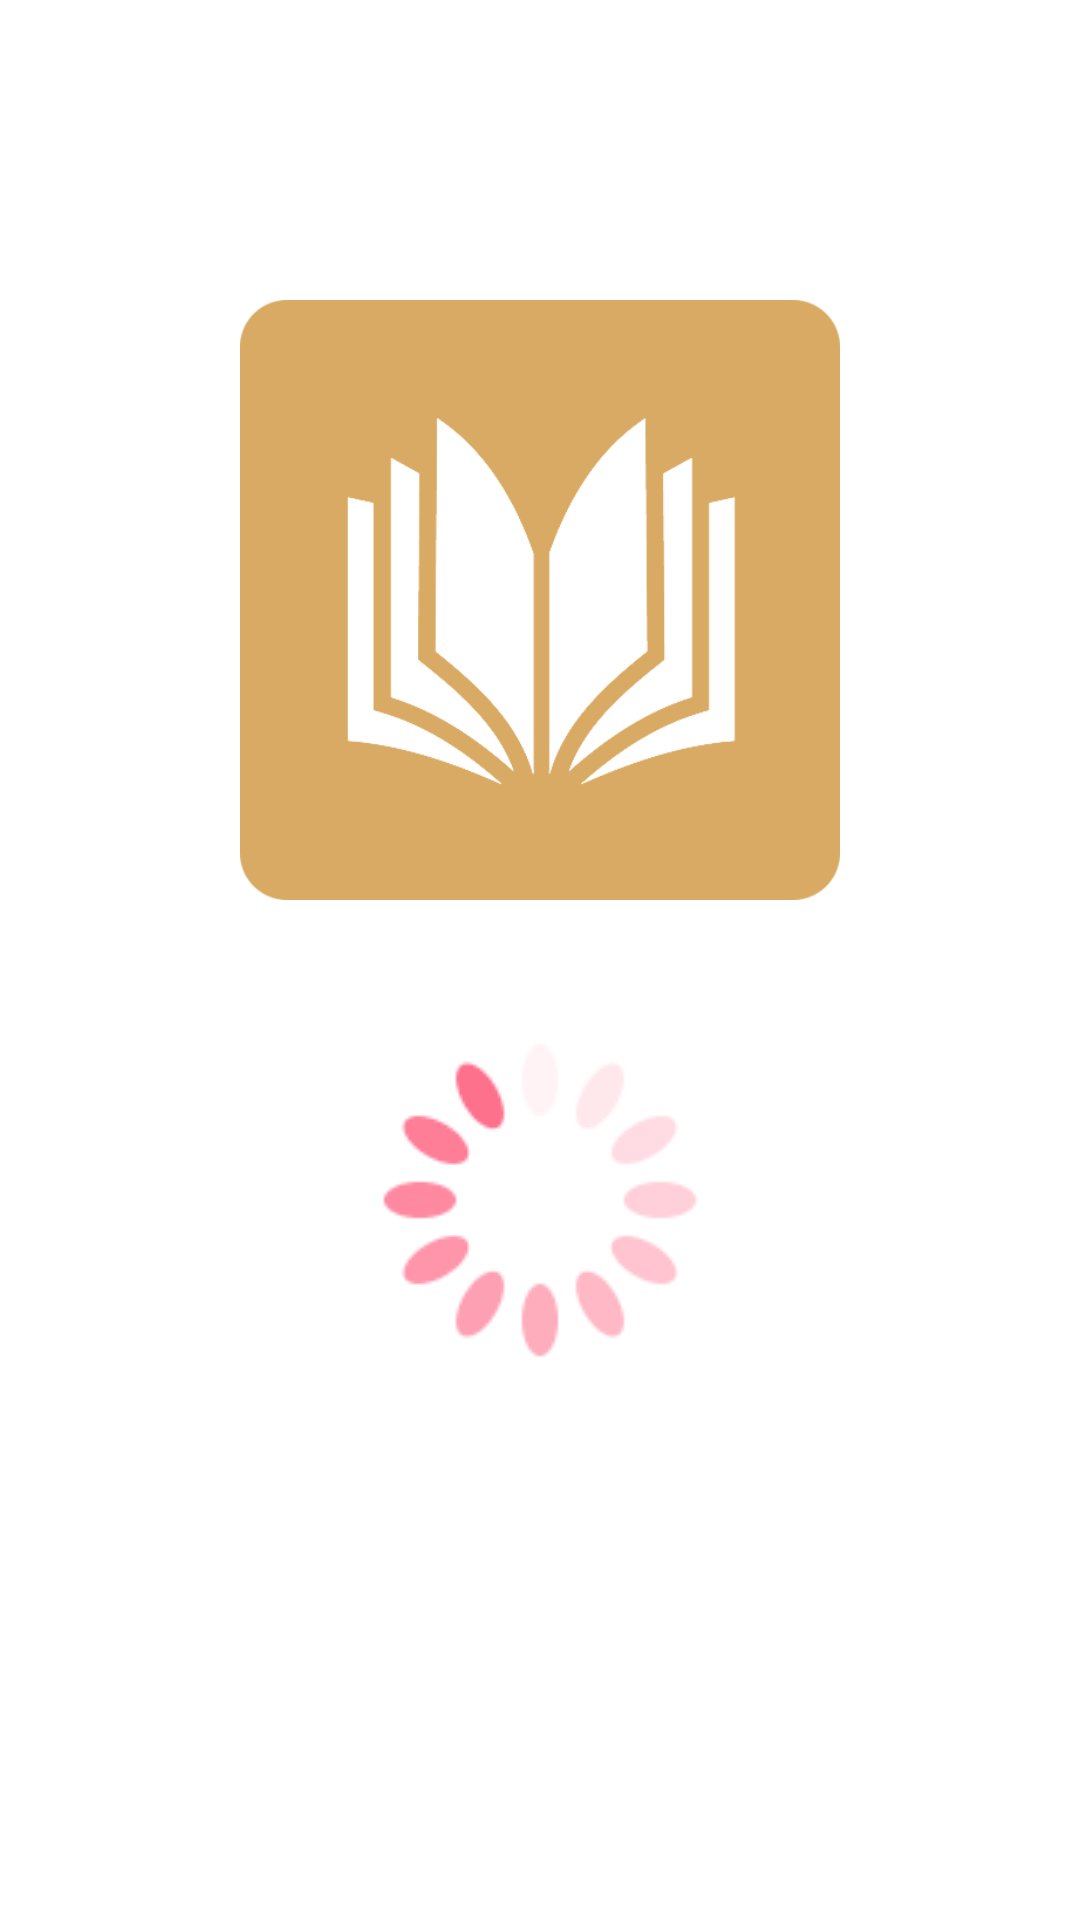

Where to tap for icons on this 1080px x 1920px app screen, as (x=x, y=y):
spinner: (x=539, y=1209)
